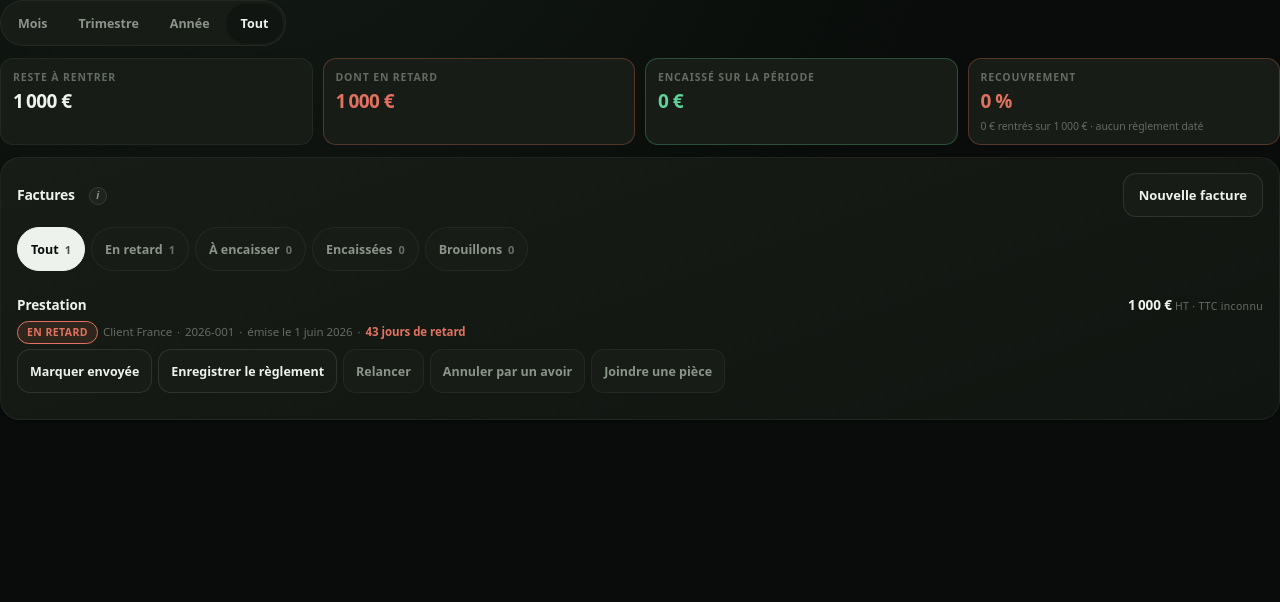
it: relancer une facture en retard › durcit le ton quand une relance a déjà été faite
This screenshot has width=1280, height=602.
Click the button "Relancer".
click(383, 371)  # box [343,349,424,393]
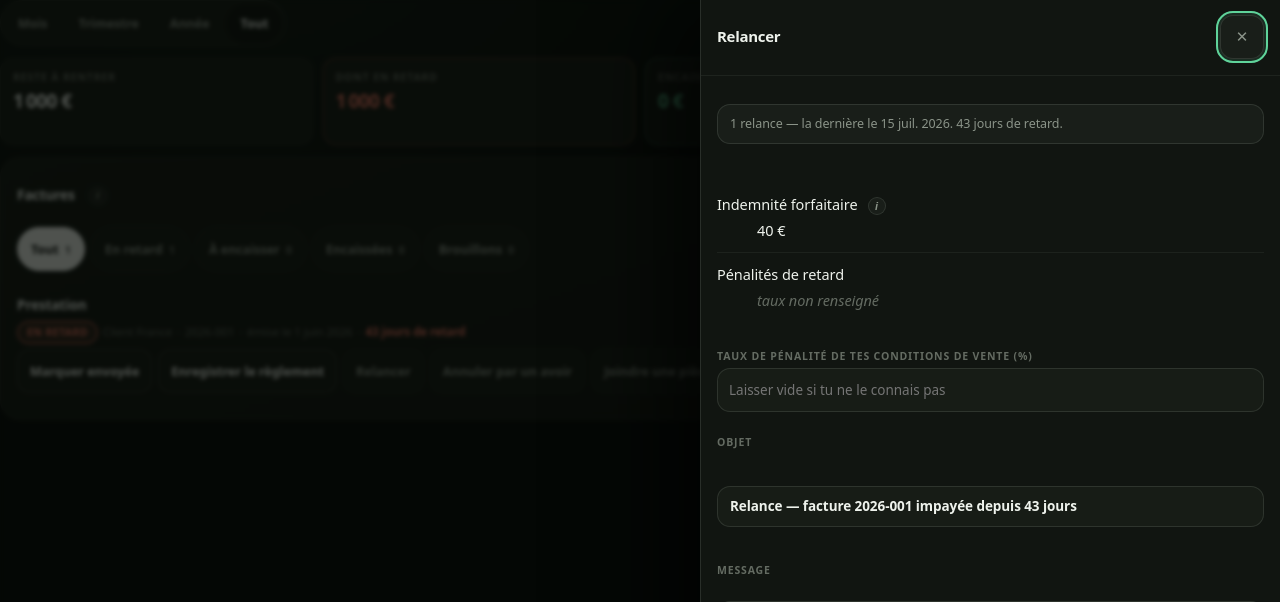
Expected: the text "Relance — facture 2026-001 impayée depuis 43 jours" is shown, [717,486,1264,527]
